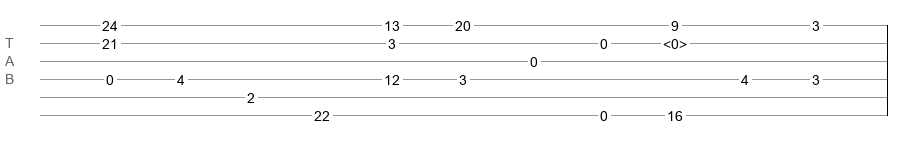0: (106, 72, 114, 82), (530, 54, 538, 64), (600, 36, 608, 46), (600, 108, 608, 118)
12: (384, 72, 400, 82)
13: (384, 18, 400, 28)
16: (667, 108, 683, 118)
2: (247, 90, 255, 100)
20: (455, 18, 471, 28)
21: (102, 36, 118, 46)
22: (314, 108, 330, 118)
24: (102, 18, 118, 28)
3: (388, 36, 396, 46), (459, 72, 467, 82), (812, 18, 820, 28), (812, 72, 820, 82)
4: (177, 72, 185, 82), (741, 72, 749, 82)
9: (671, 18, 679, 28)
harmonic: (663, 36, 687, 46)
